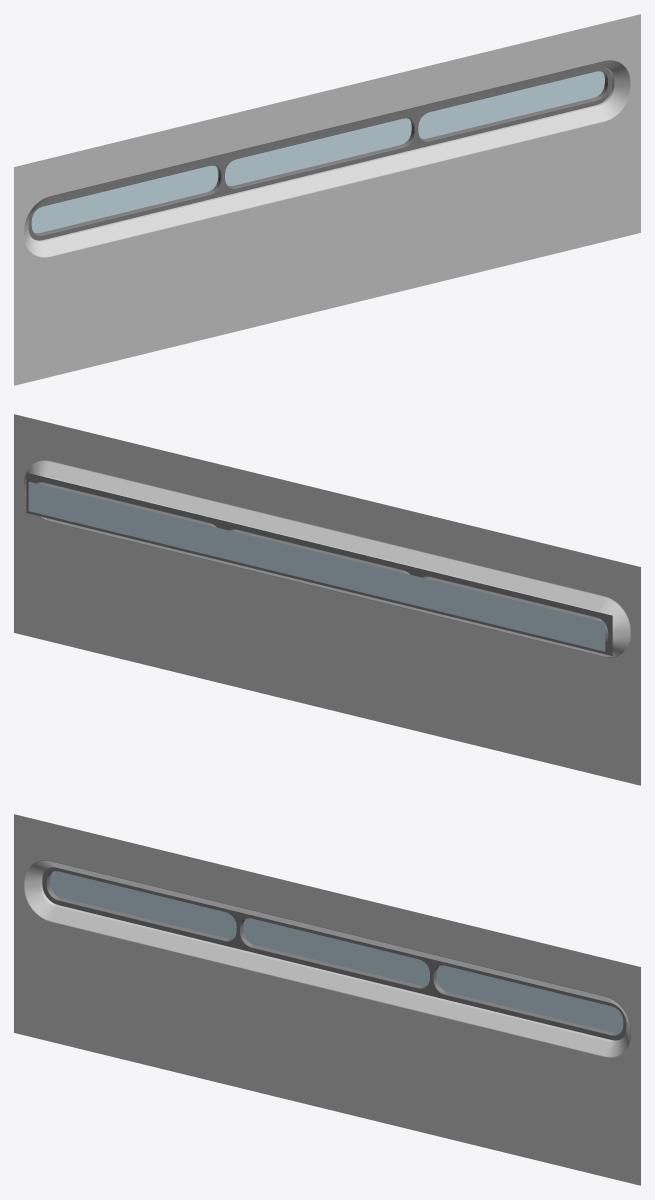
The model's file is ApartmentExteriorWindowSmall12.fbx.
3 renders of one model, top to bottom at view 1: azimuth 30°, elevation 25°; view 2: azimuth 150°, elevation 25°; view 3: azimuth 330°, elevation 25°, orthographic.
Visible parts, largest first — view 1: ApartmentExteriorWindowSmall12; view 2: ApartmentExteriorWindowSmall12; view 3: ApartmentExteriorWindowSmall12.
Part boxes in pixels (<box>): ApartmentExteriorWindowSmall12: <box>14,14,640,385</box>; ApartmentExteriorWindowSmall12: <box>14,414,640,785</box>; ApartmentExteriorWindowSmall12: <box>14,814,640,1185</box>.
Bounding box in the file's own units: 1200 × 400 × 35.
